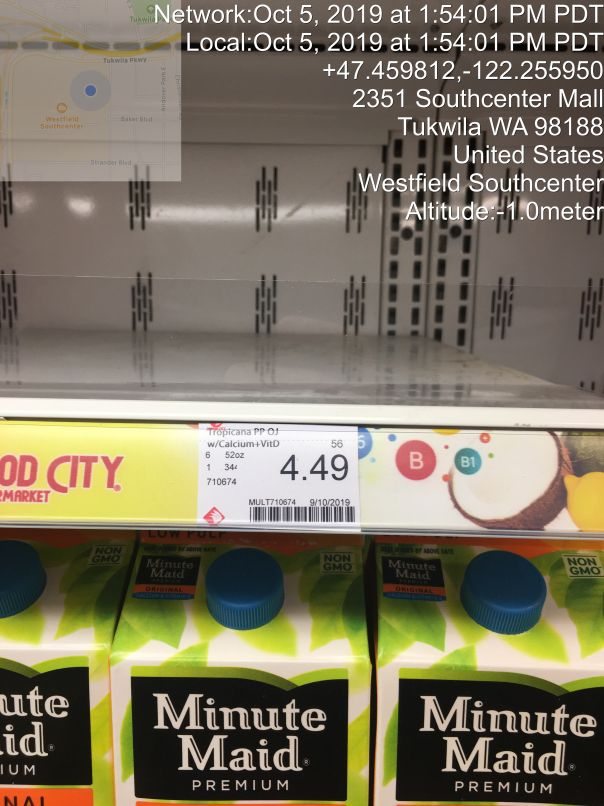Label: (186, 416, 381, 533)
Location: (343, 81, 604, 195)
Time: (144, 1, 604, 55)
Void: (2, 56, 596, 375)
